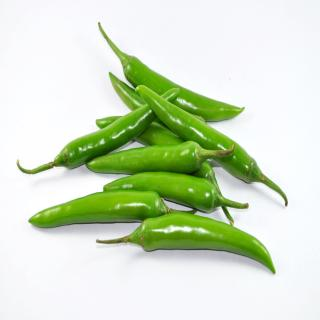Cabai Hijau: (98, 22, 246, 124), (97, 212, 277, 276), (29, 189, 170, 229), (86, 140, 236, 176)
